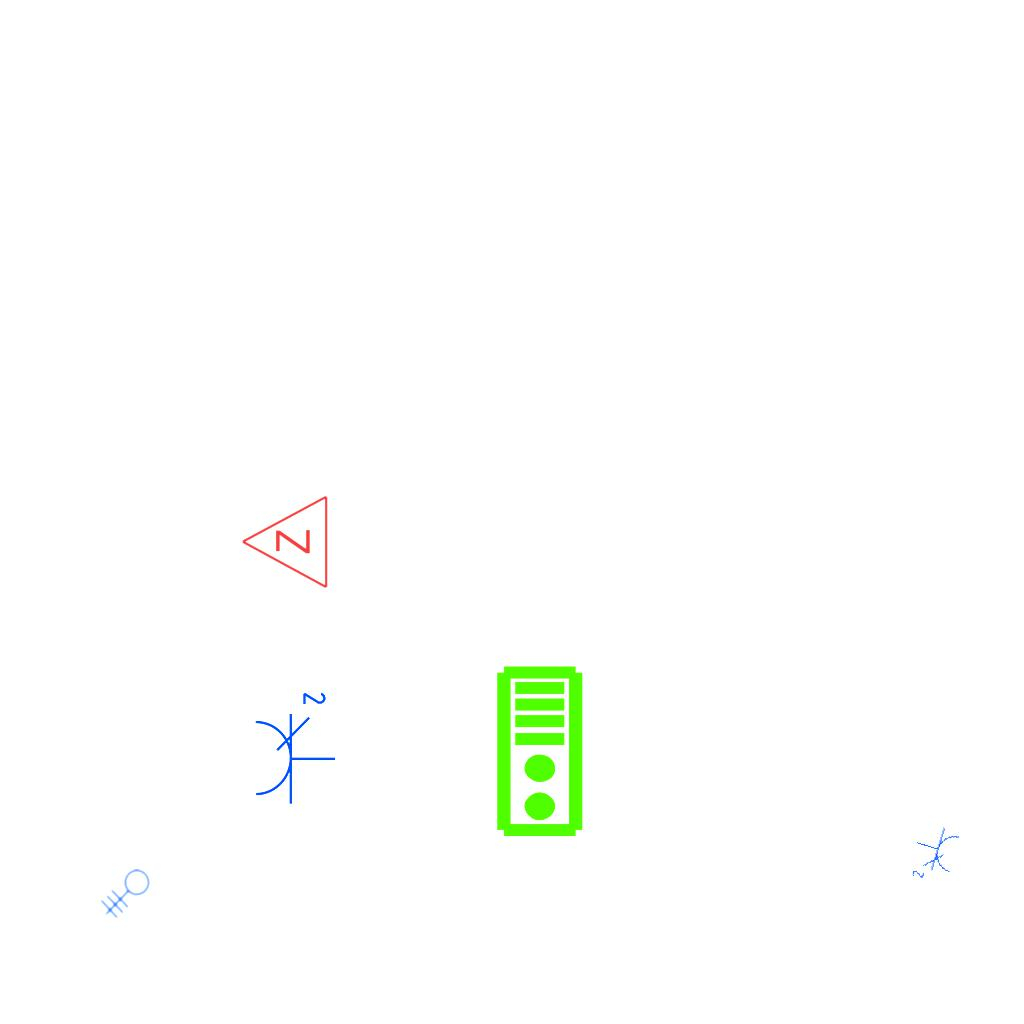Elektroanschluss_allgemein_400V_Geraeteanschlussdose_400V: (100, 869, 158, 925)
Gegensprechanlage_mit_Video: (494, 664, 589, 840)
Schukosteckdose_mehrfach: (249, 685, 337, 806), (905, 819, 965, 891)
Zimmersignalleuchte: (235, 494, 335, 592)
